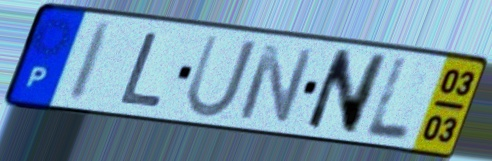I: (64, 19, 118, 105)
L: (361, 55, 413, 144), (115, 29, 166, 110)
N: (300, 46, 392, 137), (234, 41, 317, 127)
U: (181, 32, 261, 121)
